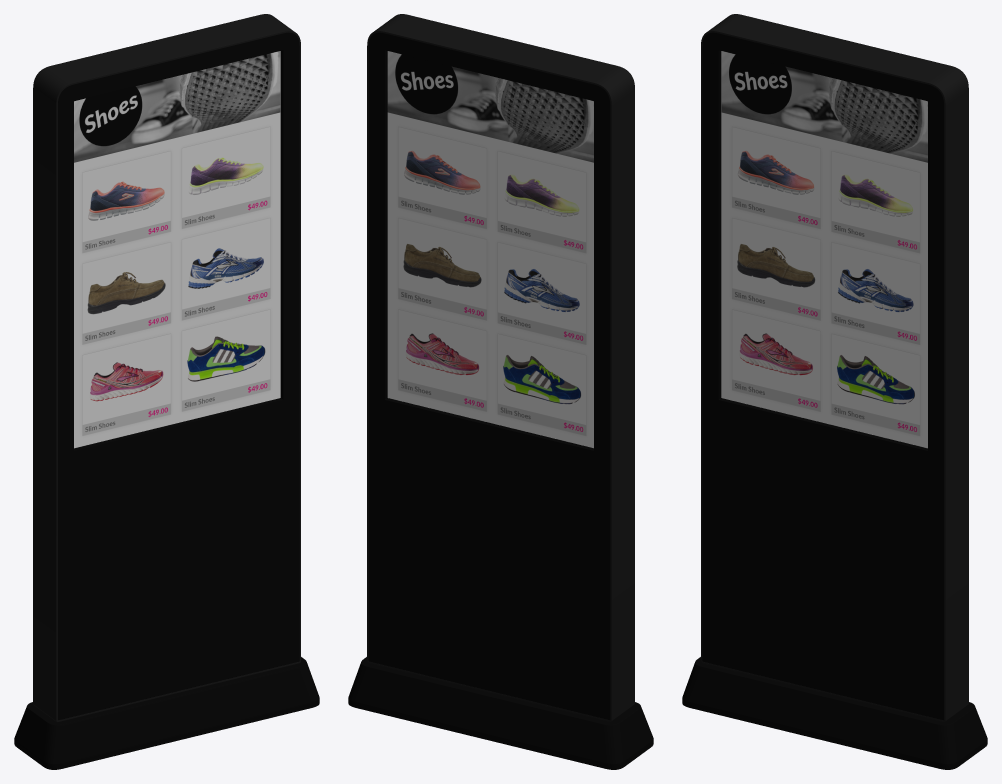
Rendered from cgaxis_models_70_24_fbx.FBX.
3 views of the same model, side by side, from view 1: azimuth 30°, elevation 25°; view 2: azimuth 150°, elevation 25°; view 3: azimuth 330°, elevation 25° (orthographic).
Visible parts, largest first — view 1: cgaxis_models_70_24_02, cgaxis_models_70_24_01, cgaxis_models_70_24_03; view 2: cgaxis_models_70_24_02, cgaxis_models_70_24_01, cgaxis_models_70_24_03; view 3: cgaxis_models_70_24_02, cgaxis_models_70_24_01, cgaxis_models_70_24_03.
Boxes of the visible parts, x1,y1,x2,y2 form: cgaxis_models_70_24_02: (14, 32, 319, 769); cgaxis_models_70_24_01: (74, 51, 280, 448); cgaxis_models_70_24_03: (33, 14, 300, 722); cgaxis_models_70_24_02: (348, 32, 653, 769); cgaxis_models_70_24_01: (387, 51, 593, 448); cgaxis_models_70_24_03: (367, 14, 634, 721); cgaxis_models_70_24_02: (682, 32, 987, 769); cgaxis_models_70_24_01: (721, 51, 927, 448); cgaxis_models_70_24_03: (701, 14, 968, 722).
Bounding box in the file's own units: 26.77 × 63.07 × 6.81.
Materials: 4 (1 with a texture image).
